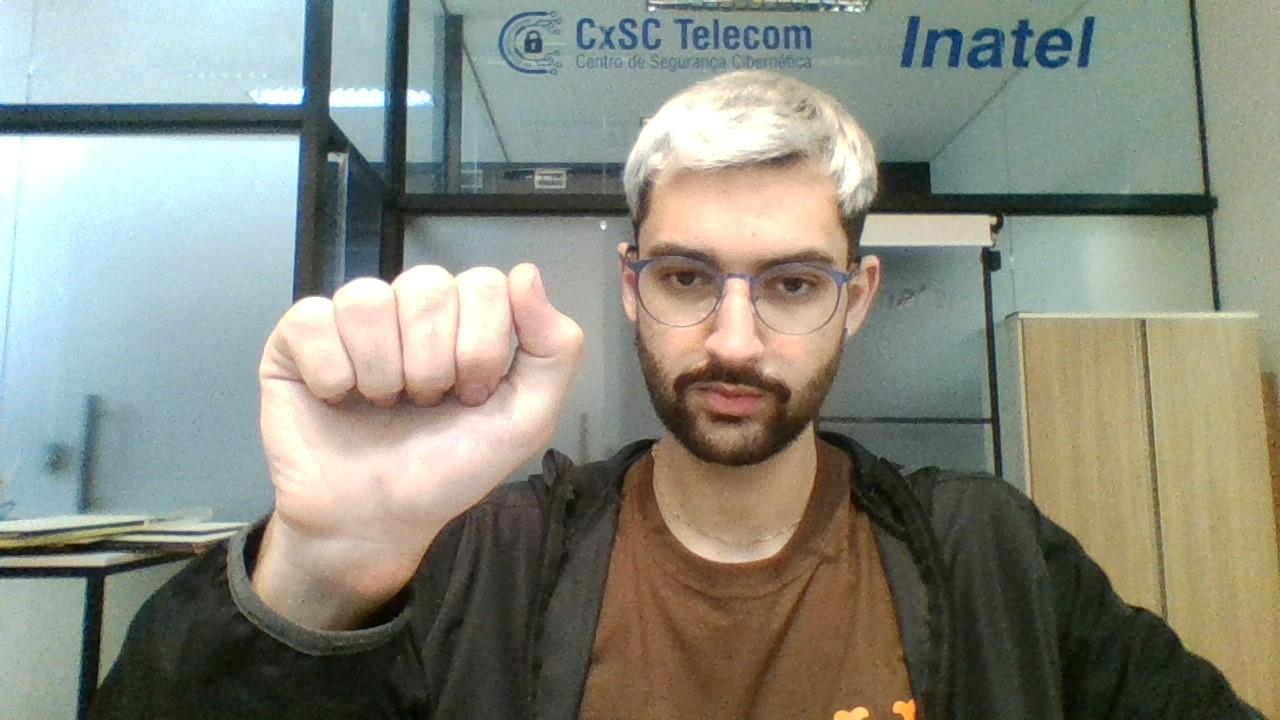A: (246, 256, 592, 542)
